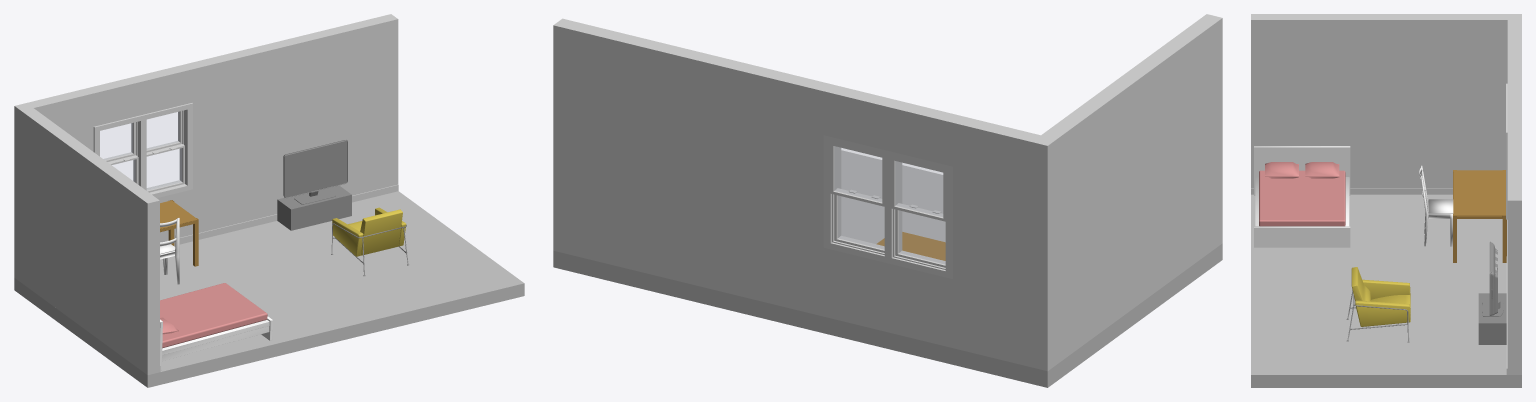
File: L12_W20_furniture3_daylight3.glb
The picture shows the model from 3 angles, left to right: view 1: azimuth 30°, elevation 25°; view 2: azimuth 150°, elevation 25°; view 3: azimuth 270°, elevation 25°; orthographic projection. The views are drawn at different scales.
Bounding box in the file's own units: 248 × 116 × 152.
